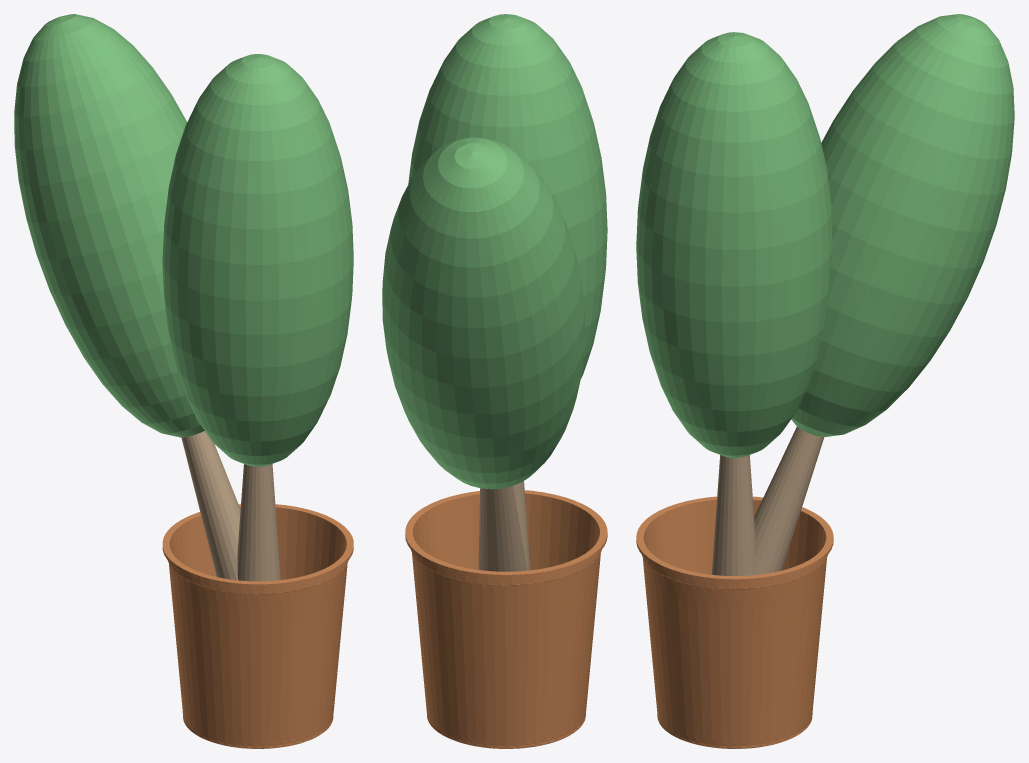
File: potted_tree_2.glb
3 views of the same model, side by side, from view 1: azimuth 30°, elevation 25°; view 2: azimuth 150°, elevation 25°; view 3: azimuth 270°, elevation 25° (orthographic). The views are drawn at different scales.
Visible parts, largest first — view 1: Mesh_Mesh_head_geo.001_lambert2SG.001; view 2: Mesh_Mesh_head_geo.001_lambert2SG.001; view 3: Mesh_Mesh_head_geo.001_lambert2SG.001.
Part boxes in pixels (x1,y1,x2,y2): Mesh_Mesh_head_geo.001_lambert2SG.001: (14, 14, 353, 748); Mesh_Mesh_head_geo.001_lambert2SG.001: (382, 14, 607, 748); Mesh_Mesh_head_geo.001_lambert2SG.001: (636, 14, 1014, 748).
Size of the model in its own units: 2.7 by 7.6 by 3.83.
